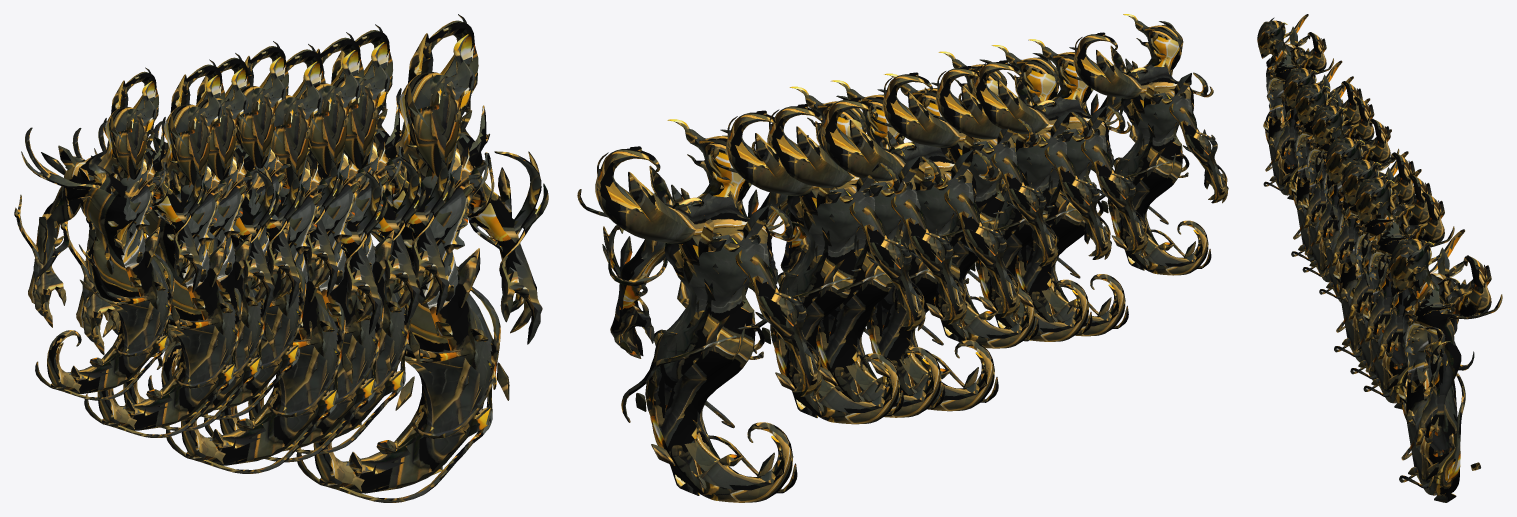
File: twinzephyr_kitbash_zephyr_v01_prepared.fbx
3 views of the same model, side by side, from view 1: azimuth 30°, elevation 25°; view 2: azimuth 150°, elevation 25°; view 3: azimuth 270°, elevation 25° (orthographic). The views are drawn at different scales.
Visible parts, largest first — view 1: LTW_TwinZephyr_Kitbash; view 2: LTW_TwinZephyr_Kitbash; view 3: LTW_TwinZephyr_Kitbash.
Boxes of the visible parts, x1,y1,x2,y2 form: LTW_TwinZephyr_Kitbash: (14,14,548,502); LTW_TwinZephyr_Kitbash: (577,14,1228,502); LTW_TwinZephyr_Kitbash: (1257,14,1502,502).
Bounding box in the file's own units: 103 × 90.81 × 55.98.
